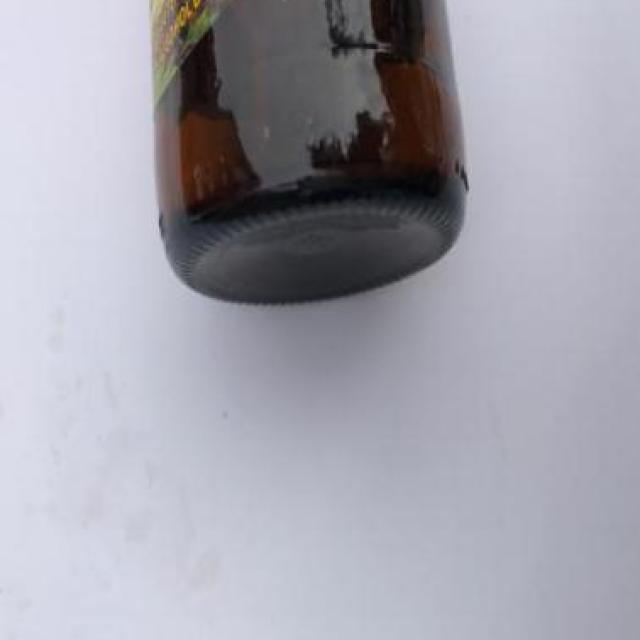kaca: (147, 0, 469, 305)
